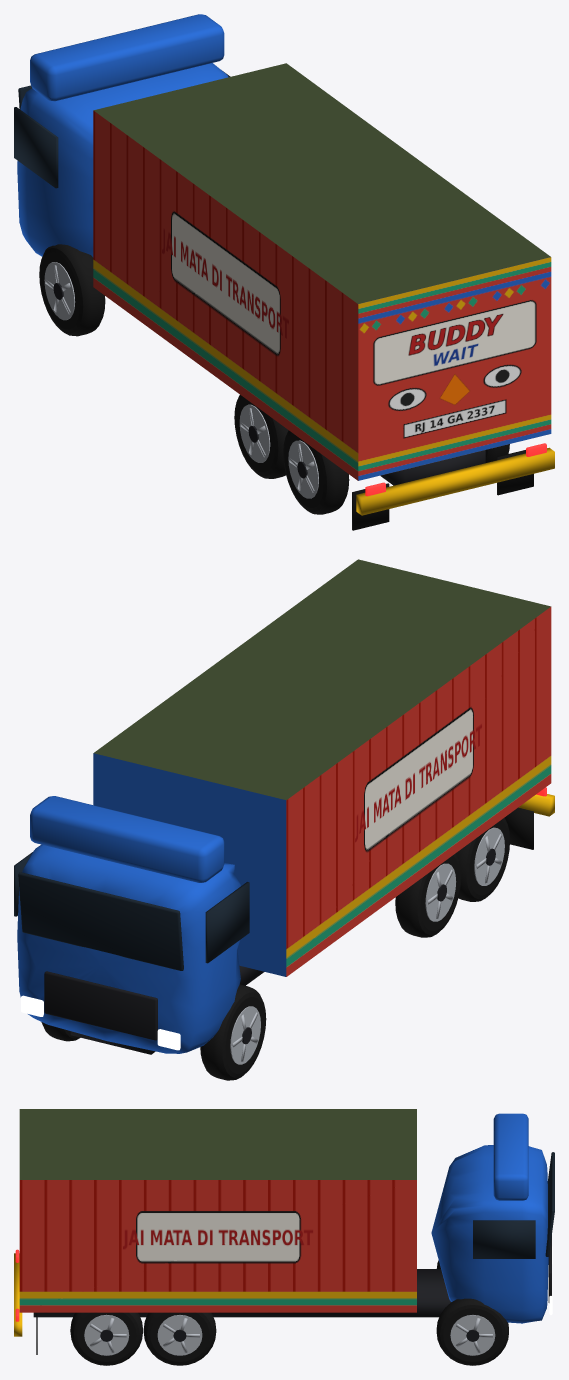
Rendered from truck1.glb.
3 views of the same model, one above another, from view 1: azimuth 30°, elevation 25°; view 2: azimuth 150°, elevation 25°; view 3: azimuth 270°, elevation 25° (orthographic). The views are drawn at different scales.
Visible parts, largest first — view 1: cargo, truck_CabPaint, truck_Rubber, truck_BumperYellow, truck_RimSilver, truck_Glass, truck_Trim, truck_Mudflap; view 2: cargo, truck_CabPaint, truck_Glass, truck_Rubber, truck_Trim, truck_RimSilver, truck_Mudflap, truck_HeadLight; view 3: cargo, truck_CabPaint, truck_Rubber, truck_RimSilver, truck_Trim, truck_Glass, truck_BumperYellow.
Boxes of the visible parts, x1,y1,x2,y2 form: cargo: (93,63,551,480); truck_CabPaint: (17,14,228,257); truck_Rubber: (39,244,509,514); truck_BumperYellow: (356,447,554,515); truck_RimSilver: (44,262,318,498); truck_Glass: (14,71,230,188); truck_Trim: (53,283,485,485); truck_Mudflap: (352,450,533,530); cargo: (93,559,551,976); truck_CabPaint: (17,796,240,1053); truck_Glass: (14,852,249,970); truck_Rubber: (41,817,509,1080); truck_Trim: (44,848,495,1054); truck_RimSilver: (230,827,504,1064); truck_Mudflap: (504,807,533,849); truck_HeadLight: (21,995,180,1050); cargo: (19,1109,416,1312); truck_CabPaint: (431,1113,548,1323); truck_Rubber: (70,1260,508,1365); truck_RimSilver: (84,1314,495,1355); truck_Trim: (33,1235,551,1341); truck_Glass: (473,1152,554,1258); truck_BumperYellow: (14,1253,22,1336).
Bounding box in the file's own units: 2.41 × 3.01 × 7.76.
12 materials, 2 textured.
